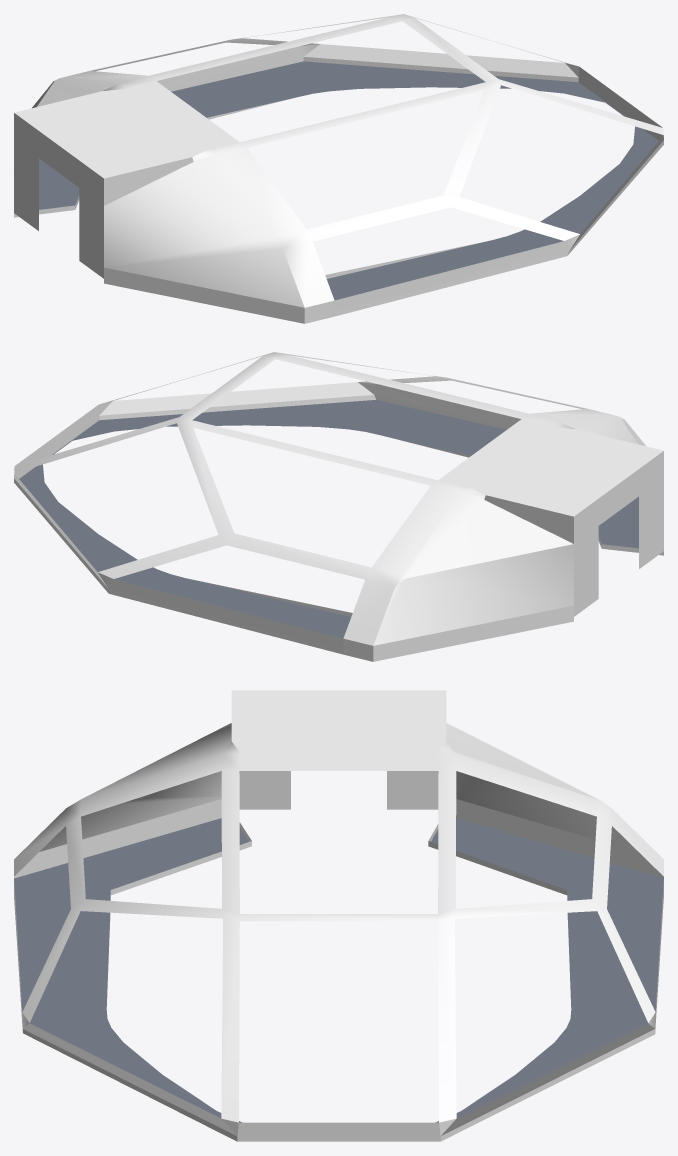
Rendered from Bridge_Walls_Mesh.fbx.
The picture shows the model from 3 angles, top to bottom: view 1: azimuth 30°, elevation 25°; view 2: azimuth 150°, elevation 25°; view 3: azimuth 270°, elevation 25°; orthographic projection. The views are drawn at different scales.
Visible parts, largest first — view 1: Bridge_Walls_Mesh; view 2: Bridge_Walls_Mesh; view 3: Bridge_Walls_Mesh.
Boxes of the visible parts, x1,y1,x2,y2 form: Bridge_Walls_Mesh: (14,14,663,323); Bridge_Walls_Mesh: (14,352,663,661); Bridge_Walls_Mesh: (14,690,663,1141).
Size of the model in its own units: 6447 by 1150 by 5421.
